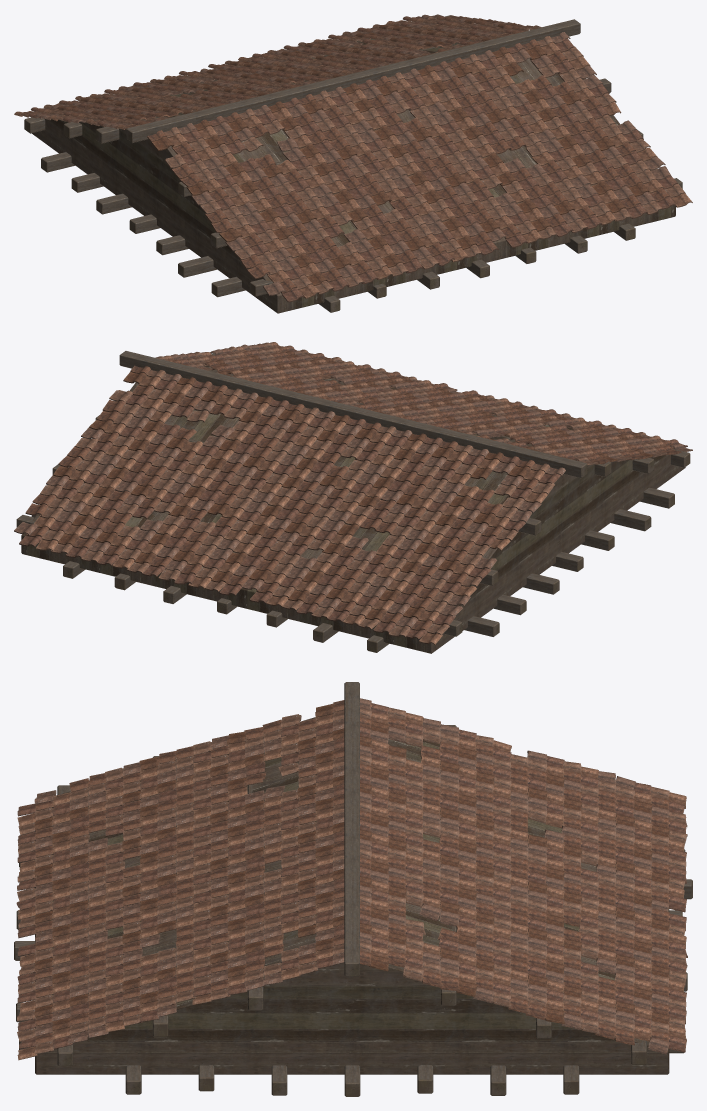
File: SM_Roof_big_4_01.fbx
3 renders of one model, top to bottom at view 1: azimuth 30°, elevation 25°; view 2: azimuth 150°, elevation 25°; view 3: azimuth 270°, elevation 25°, orthographic. The views are drawn at different scales.
Visible parts, largest first — view 1: SM_Roof_big_4_01_LOD0; view 2: SM_Roof_big_4_01_LOD0; view 3: SM_Roof_big_4_01_LOD0.
Part boxes in pixels (left/top/right/bottom): SM_Roof_big_4_01_LOD0: left=14, top=14, right=692, bottom=313; SM_Roof_big_4_01_LOD0: left=14, top=342, right=692, bottom=653; SM_Roof_big_4_01_LOD0: left=14, top=682, right=692, bottom=1096.
Size of the model in its own units: 1284 by 1284 by 283.
Materials: 4 (4 with a texture image).
